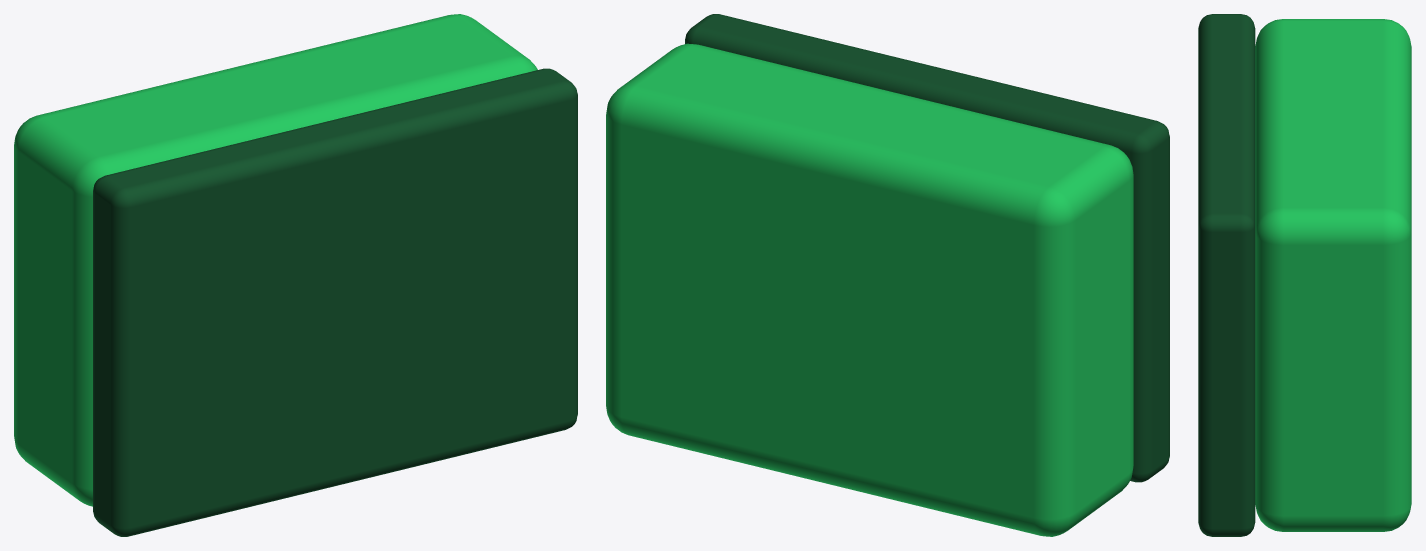
File: sponge.obj
The picture shows the model from 3 angles, left to right: view 1: azimuth 30°, elevation 25°; view 2: azimuth 150°, elevation 25°; view 3: azimuth 270°, elevation 25°; orthographic projection. The views are drawn at different scales.
Visible parts, largest first — view 1: sponge_1_1764, sponge_0_0; view 2: sponge_0_0, sponge_1_1764; view 3: sponge_0_0, sponge_1_1764.
Part boxes in pixels (box(x1,y1,x2,y2)): sponge_1_1764: box(93, 68, 577, 536); sponge_0_0: box(14, 14, 537, 506); sponge_0_0: box(606, 43, 1133, 536); sponge_1_1764: box(685, 14, 1169, 482); sponge_0_0: box(1255, 19, 1411, 531); sponge_1_1764: box(1198, 14, 1255, 536).
Size of the model in its own units: 0.07 by 0.05 by 0.03.
